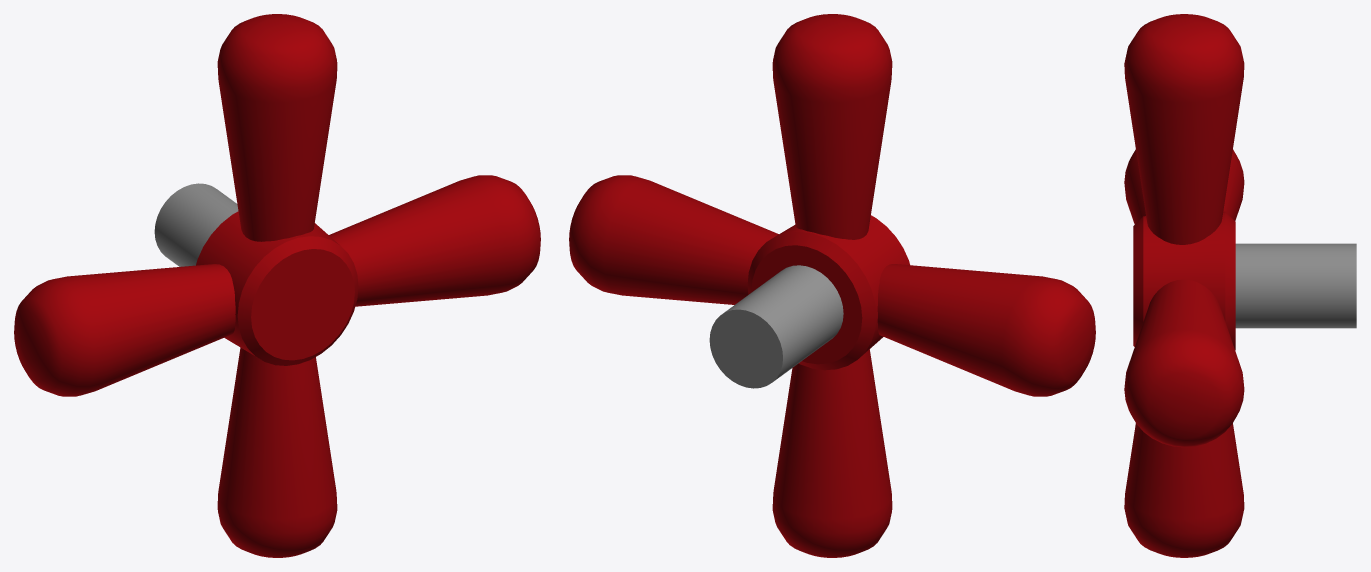
The model's file is HandleValve.fbx.
3 views of the same model, side by side, from view 1: azimuth 30°, elevation 25°; view 2: azimuth 150°, elevation 25°; view 3: azimuth 270°, elevation 25° (orthographic).
Parts seen in each view (by area): view 1: Handle_Valve, Handle_Valve_Pipe; view 2: Handle_Valve, Handle_Valve_Pipe; view 3: Handle_Valve, Handle_Valve_Pipe.
Part boxes in pixels (<box>): Handle_Valve: <box>14,14,540,557</box>; Handle_Valve_Pipe: <box>154,183,238,266</box>; Handle_Valve: <box>569,14,1095,557</box>; Handle_Valve_Pipe: <box>709,265,843,388</box>; Handle_Valve: <box>1124,14,1244,557</box>; Handle_Valve_Pipe: <box>1235,243,1356,328</box>.
Size of the model in its own units: 381 by 381 by 154.
